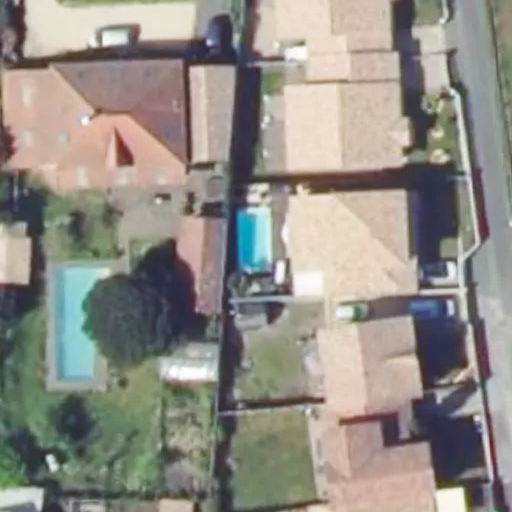pool: (54, 268, 106, 385), (239, 207, 273, 270)
